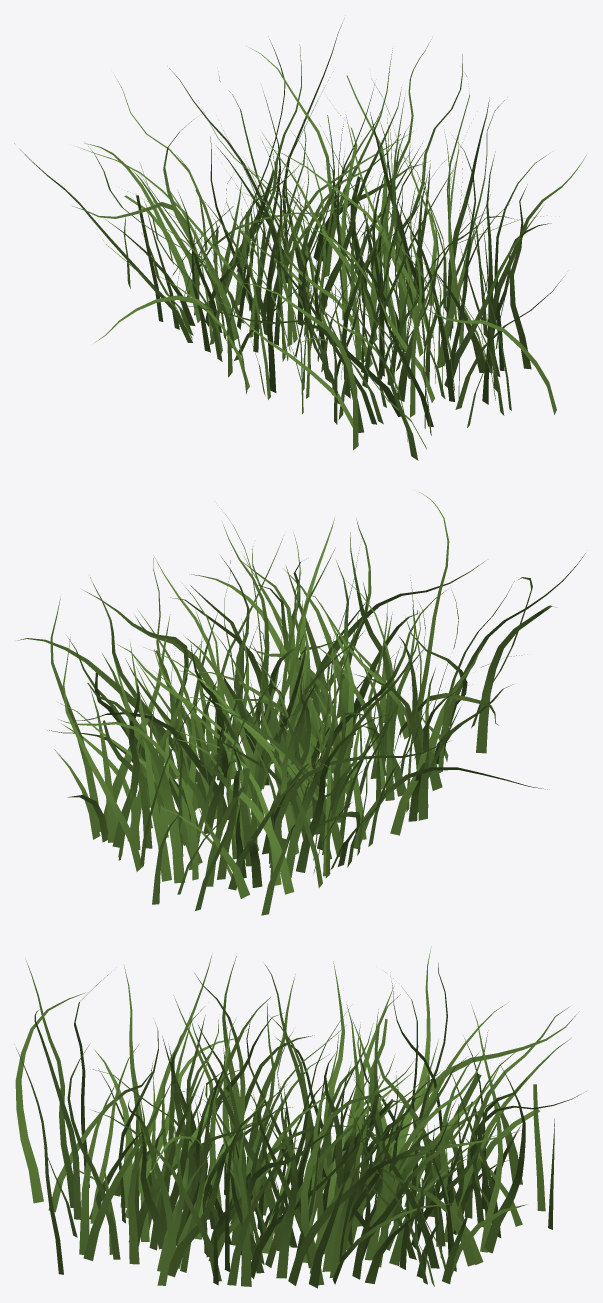
The model's file is plant_swamp_grass_short_flat_needled_E.fbx.
The picture shows the model from 3 angles, top to bottom: view 1: azimuth 30°, elevation 25°; view 2: azimuth 150°, elevation 25°; view 3: azimuth 270°, elevation 25°; orthographic projection. The views are drawn at different scales.
Parts seen in each view (by area): view 1: plant_swamp_grass_short_flat_needled_E; view 2: plant_swamp_grass_short_flat_needled_E; view 3: plant_swamp_grass_short_flat_needled_E.
Part boxes in pixels (left/top/right/bottom): plant_swamp_grass_short_flat_needled_E: left=14, top=22, right=586, bottom=460; plant_swamp_grass_short_flat_needled_E: left=17, top=492, right=585, bottom=915; plant_swamp_grass_short_flat_needled_E: left=14, top=947, right=586, bottom=1288.
Bounding box in the file's own units: 386 × 198 × 437.
